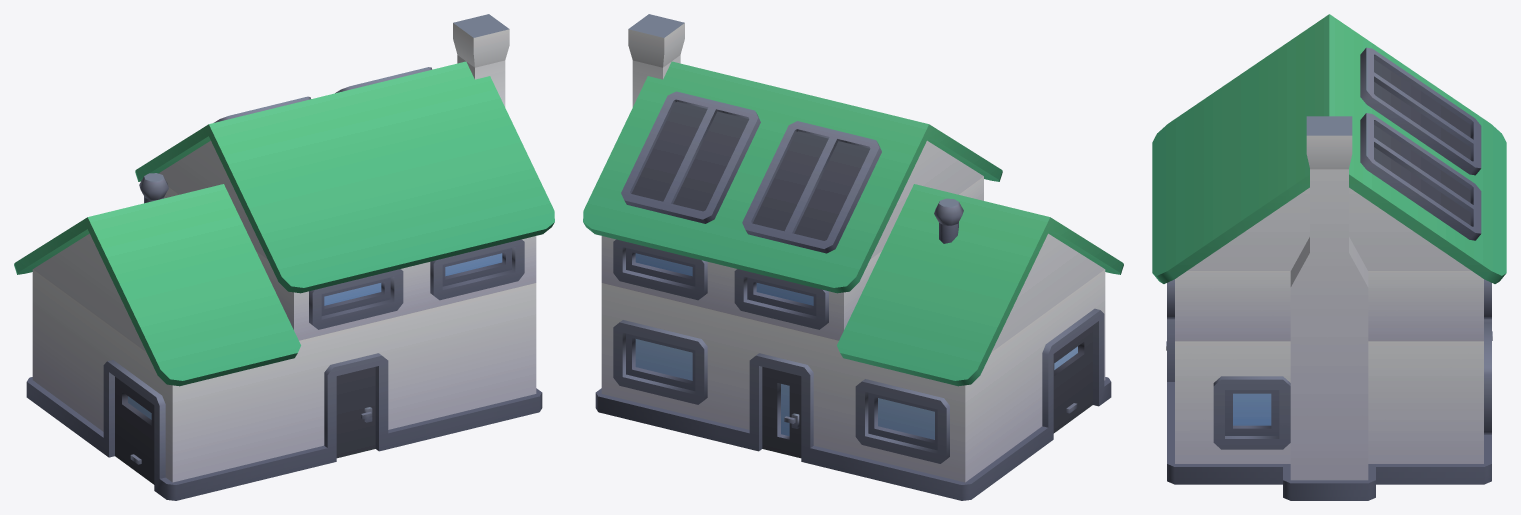
Rendered from suburban.building_type_j.glb.
3 renders of one model, left to right at view 1: azimuth 30°, elevation 25°; view 2: azimuth 150°, elevation 25°; view 3: azimuth 270°, elevation 25°, orthographic. The views are drawn at different scales.
Visible parts, largest first — view 1: building-type-j; view 2: building-type-j; view 3: building-type-j.
Part boxes in pixels (x1,y1,x2,y2): building-type-j: (14,14,554,500); building-type-j: (583,14,1123,500); building-type-j: (1152,14,1506,500).
Bounding box in the file's own units: 7.54 × 5.71 × 5.04.
1 material, 1 textured.
